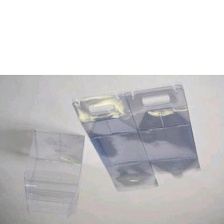plastic_box: (65, 81, 208, 199), (14, 125, 90, 224)
